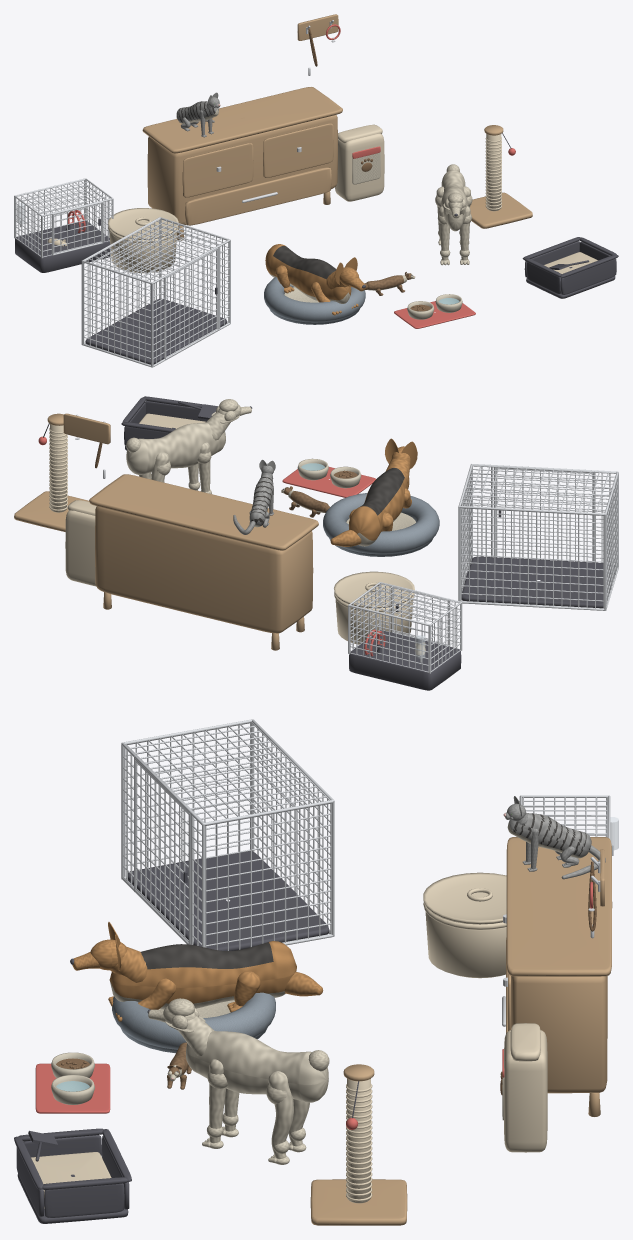
File: pets-and-companions-hd-pet-corner-dc8eab2e__28186.glb
3 views of the same model, one above another, from view 1: azimuth 30°, elevation 25°; view 2: azimuth 150°, elevation 25°; view 3: azimuth 270°, elevation 25° (orthographic). The views are drawn at different scales.
Parts seen in each view (by area): view 1: 000-sideboard/0, 004-dog-crate/1, 004-dog-crate/0, 000-sideboard/drawer/wood, 010-litter-tray/0, 012-hamster-cage/2, 012-hamster-cage/0, 006-german-shepherd-lying/0, 007-poodle/0, 004-dog-crate/crate-door/metal, 002-kibble-sack/0, 005-pet-bed/0 (+13 smaller); view 2: 000-sideboard/0, 004-dog-crate/1, 004-dog-crate/0, 012-hamster-cage/2, 007-poodle/0, 012-hamster-cage/0, 005-pet-bed/0, 004-dog-crate/crate-door/metal, 006-german-shepherd-lying/0, 002-kibble-sack/0, 010-litter-tray/0, 003-toy-basket/basket-lid (+11 smaller); view 3: 004-dog-crate/1, 000-sideboard/0, 007-poodle/0, 004-dog-crate/0, 006-german-shepherd-lying/0, 010-litter-tray/0, 002-kibble-sack/0, 004-dog-crate/crate-door/metal, 011-scratching-post/0, 003-toy-basket/0, 005-pet-bed/0, 003-toy-basket/basket-lid (+7 smaller).
Part boxes in pixels (x1=…): 000-sideboard/0: x1=142, y1=87, x2=342, y2=240; 004-dog-crate/1: x1=81, y1=217, x2=230, y2=367; 004-dog-crate/0: x1=85, y1=298, x2=227, y2=364; 000-sideboard/drawer/wood: x1=185, y1=167, x2=331, y2=225; 010-litter-tray/0: x1=522, y1=237, x2=618, y2=298; 012-hamster-cage/2: x1=14, y1=178, x2=113, y2=258; 012-hamster-cage/0: x1=15, y1=220, x2=110, y2=272; 006-german-shepherd-lying/0: x1=265, y1=244, x2=366, y2=315; 007-poodle/0: x1=435, y1=164, x2=472, y2=265; 004-dog-crate/crate-door/metal: x1=165, y1=248, x2=218, y2=359; 002-kibble-sack/0: x1=335, y1=124, x2=384, y2=201; 005-pet-bed/0: x1=264, y1=277, x2=365, y2=324; 000-sideboard/0: x1=89, y1=474, x2=318, y2=650; 004-dog-crate/1: x1=458, y1=464, x2=618, y2=610; 004-dog-crate/0: x1=461, y1=556, x2=614, y2=608; 012-hamster-cage/2: x1=348, y1=582, x2=462, y2=673; 007-poodle/0: x1=126, y1=399, x2=251, y2=493; 012-hamster-cage/0: x1=349, y1=630, x2=461, y2=690; 005-pet-bed/0: x1=323, y1=493, x2=439, y2=556; 004-dog-crate/crate-door/metal: x1=494, y1=467, x2=593, y2=562; 006-german-shepherd-lying/0: x1=330, y1=438, x2=417, y2=546; 002-kibble-sack/0: x1=65, y1=500, x2=96, y2=586; 010-litter-tray/0: x1=121, y1=396, x2=217, y2=450; 003-toy-basket/basket-lid: x1=334, y1=571, x2=414, y2=608; 004-dog-crate/1: x1=121, y1=719, x2=334, y2=950; 000-sideboard/0: x1=506, y1=837, x2=612, y2=1116; 007-poodle/0: x1=148, y1=998, x2=329, y2=1164; 004-dog-crate/0: x1=128, y1=851, x2=329, y2=950; 006-german-shepherd-lying/0: x1=72, y1=922, x2=323, y2=1021; 010-litter-tray/0: x1=14, y1=1128, x2=131, y2=1223; 002-kibble-sack/0: x1=504, y1=1023, x2=547, y2=1152; 004-dog-crate/crate-door/metal: x1=134, y1=758, x2=190, y2=944; 011-scratching-post/0: x1=310, y1=1064, x2=407, y2=1225; 003-toy-basket/0: x1=423, y1=902, x2=506, y2=978; 005-pet-bed/0: x1=112, y1=992, x2=275, y2=1053; 003-toy-basket/basket-lid: x1=423, y1=872, x2=506, y2=924.
Size of the model in its own units: 3.99 by 1.32 by 2.75.
15 materials, 6 textured.
